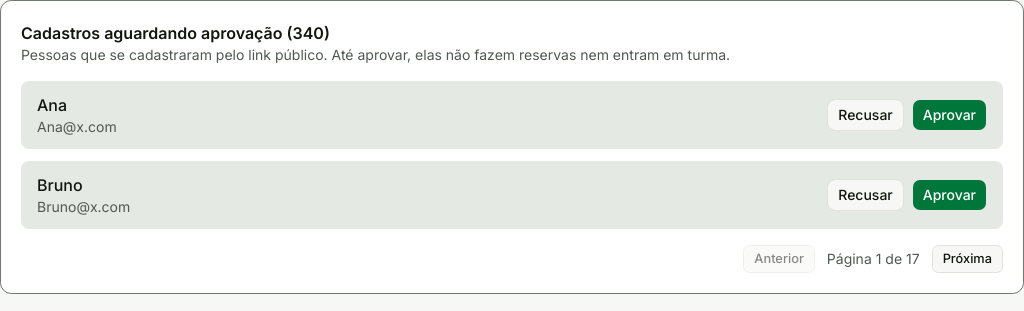
Test: CadastrosPendentes › **AC-010: pagina, e ninguém fica inalcançável**
This screenshot has width=1024, height=311.
Expected: the text "Ana" is shown, top-left (37, 95), bottom-right (67, 115)
Expected: the text "Página 1 de 17" is shown, top-left (827, 249), bottom-right (920, 269)
What coordinates should you click on to do the following:
click the button "Próxima"
I would click on:
 (967, 259)
Its box is top-left (932, 245), bottom-right (1003, 273).
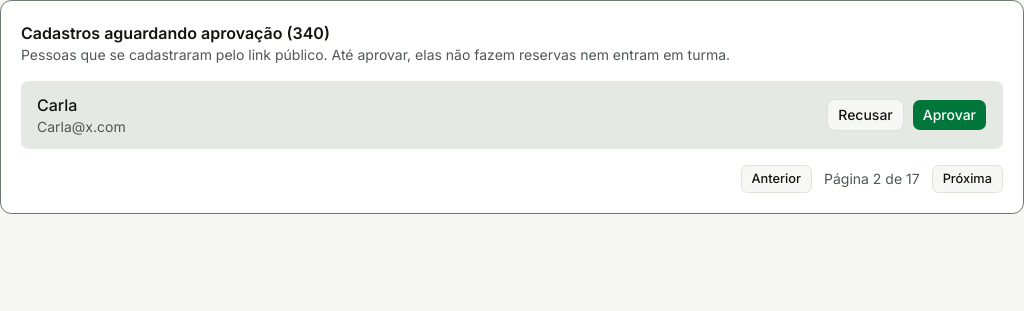
Expected: the text "Carla" is shown, top-left (37, 95), bottom-right (77, 115)
